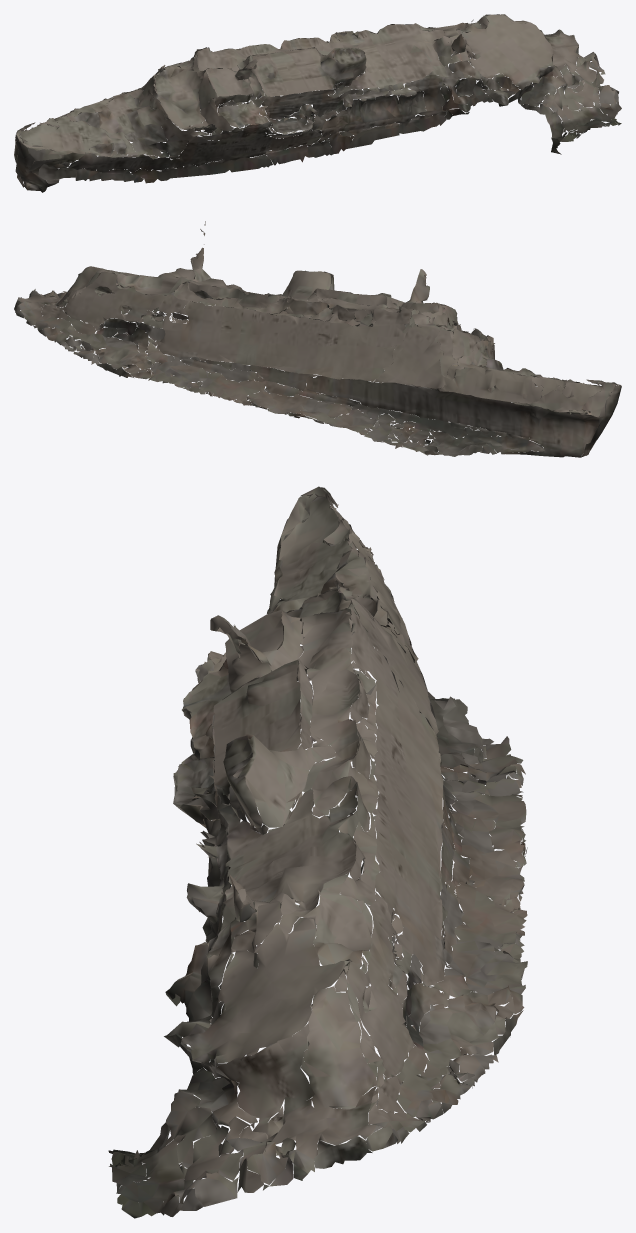
File: a27_wreck_b.glb
The picture shows the model from 3 angles, top to bottom: view 1: azimuth 30°, elevation 25°; view 2: azimuth 150°, elevation 25°; view 3: azimuth 270°, elevation 25°; orthographic projection. The views are drawn at different scales.
Parts seen in each view (by area): view 1: body; view 2: body; view 3: body.
Boxes of the visible parts, x1,y1,x2,y2 form: body: (14, 14, 621, 192); body: (14, 221, 621, 457); body: (108, 486, 527, 1218).
Bounding box in the file's own units: 1 × 0.244 × 0.3146.
1 material, 1 textured.
